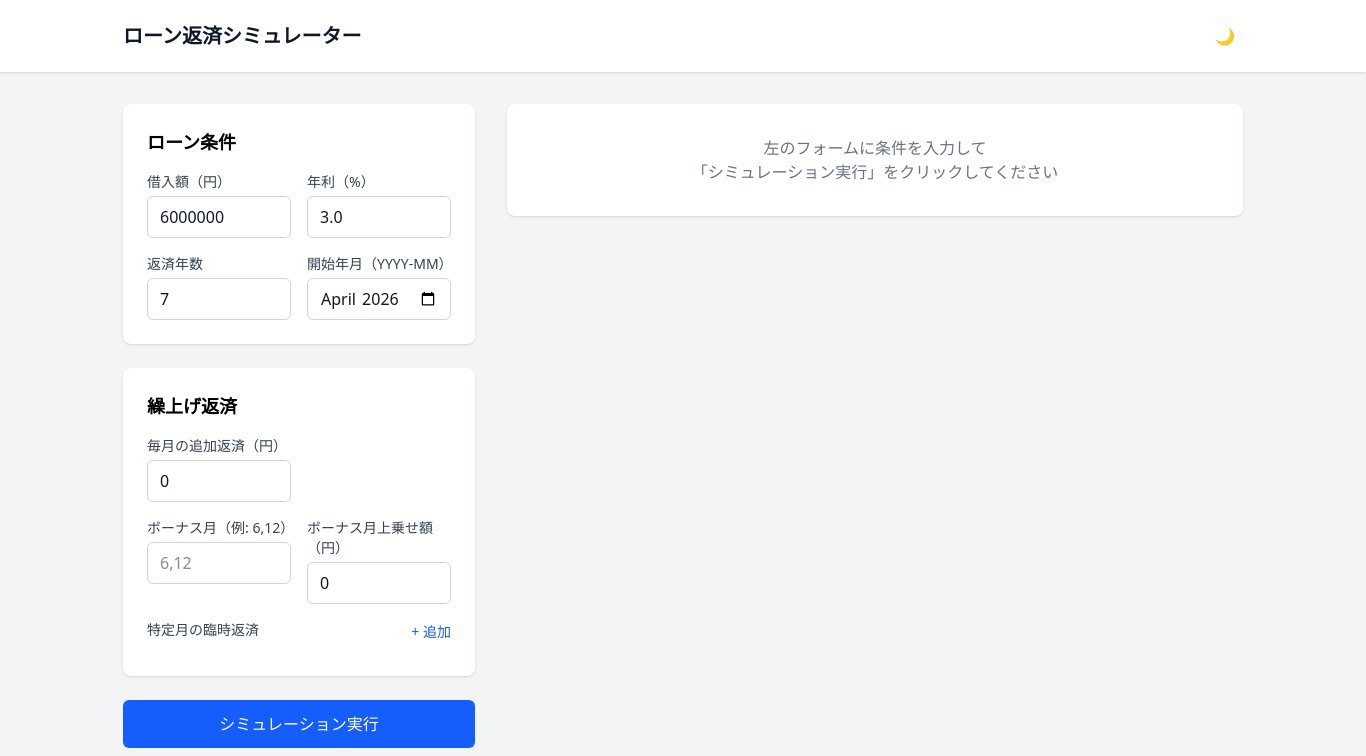
Test: App 統合テスト › シミュレーション実行 › デフォルト値でシミュレーションを実行すると結果が表示される
The width and height of the screenshot is (1366, 756).
Click the button "シミュレーション実行" at (299, 724), box [123, 700, 475, 748]
(page scrolled)
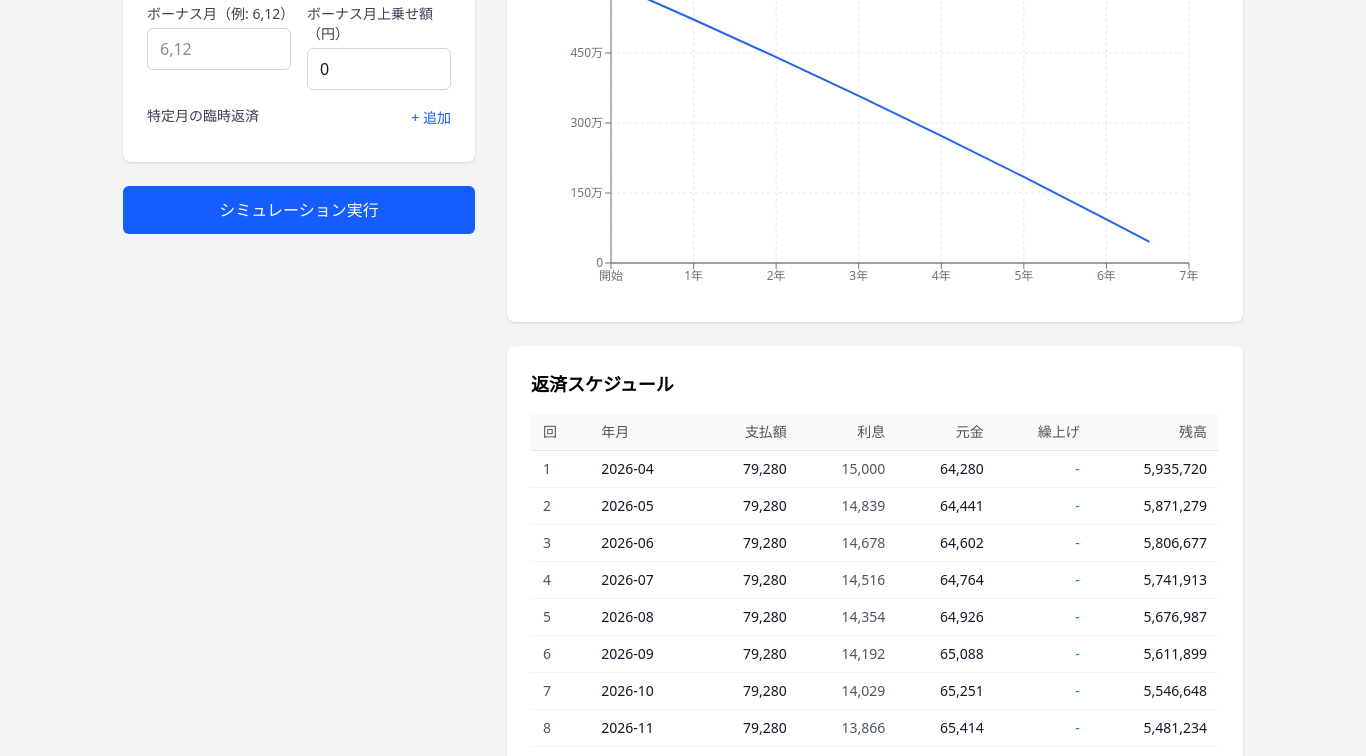
Check: the heading "返済スケジュール" is shown, box [531, 372, 674, 396]
Check: the text "左のフォームに条件を入力して" is gone
